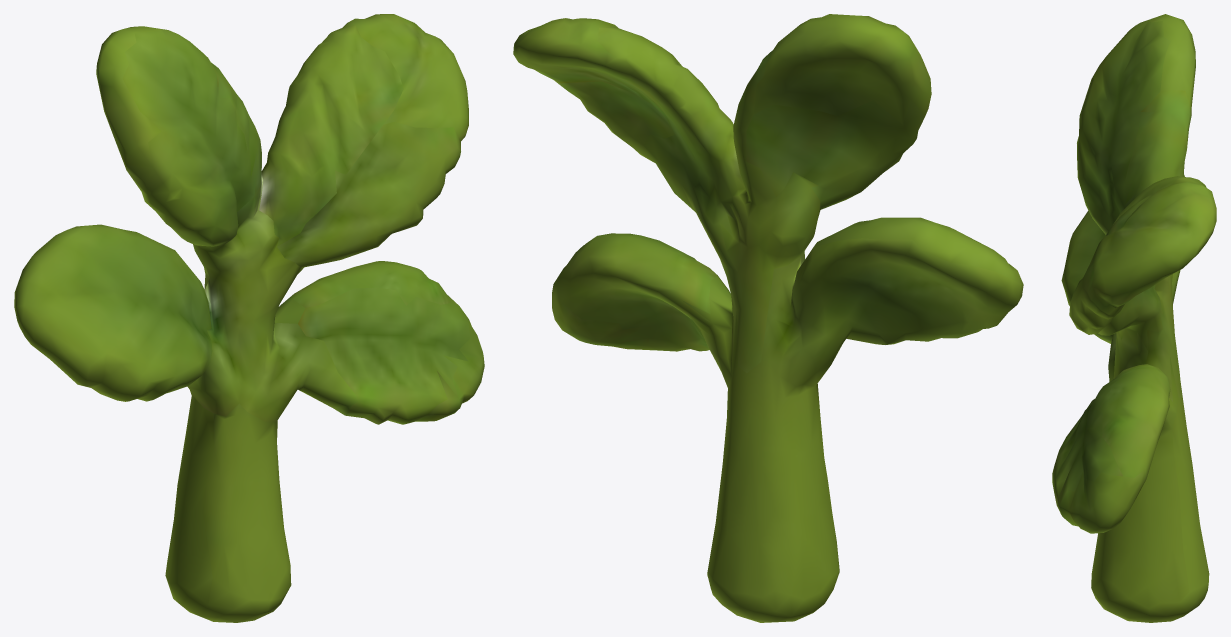
The model's file is plumeria_s2.glb.
The picture shows the model from 3 angles, left to right: view 1: azimuth 30°, elevation 25°; view 2: azimuth 150°, elevation 25°; view 3: azimuth 270°, elevation 25°; orthographic projection. The views are drawn at different scales.
Size of the model in its own units: 0.7984 by 1 by 0.2694.
1 material, 1 textured.
